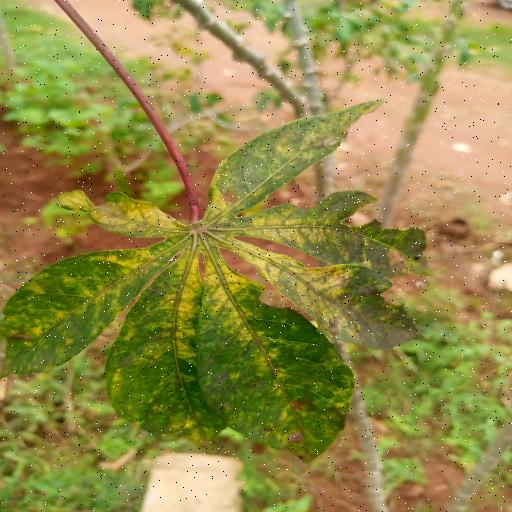Cassava_Mosaic: (10, 100, 430, 463)
